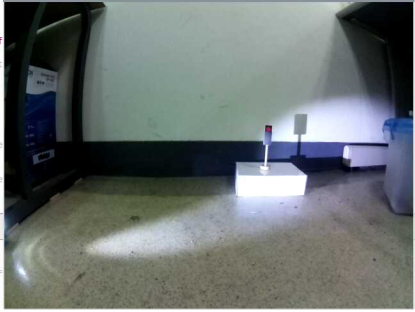Red: (261, 122, 275, 149)
